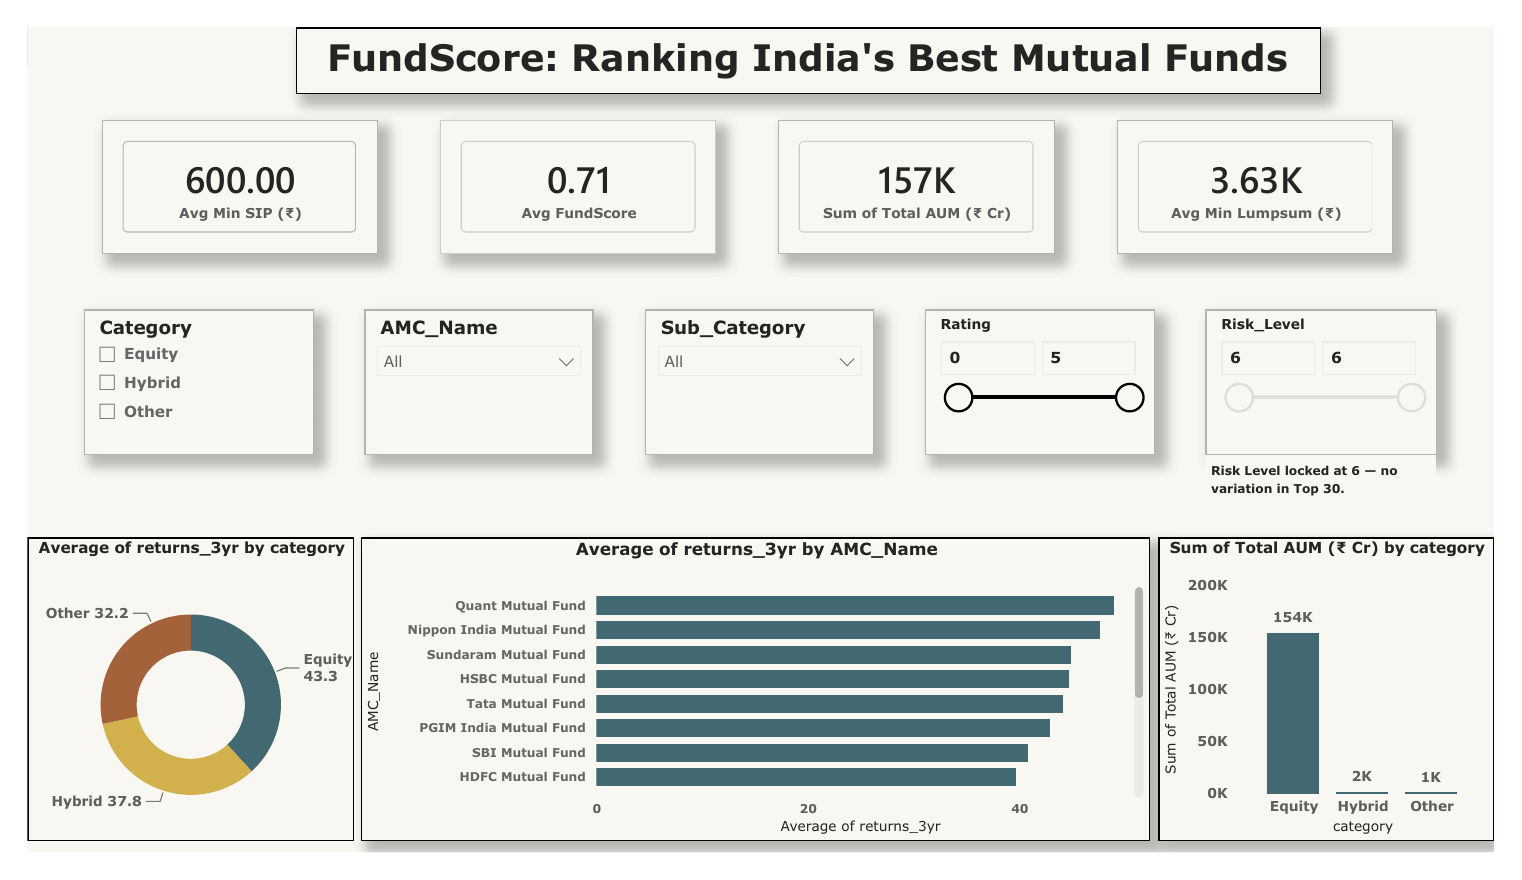

Layout of this report page (visuals, bound fields, positions):
{"tool":"powerbi","page":{"name":"Overview","canvas":[1280,720],"ordinal":0},"visuals":[{"type":"slicer","fields":{"Values":["Top 30 Mutual Funds.category"]},"box":[49.4,245.6,200.3,127.6],"z":0},{"type":"slicer","fields":{"Values":["Top 30 Mutual Funds.amc_name"]},"box":[294,245.6,200.3,127.6],"z":1000},{"type":"slicer","fields":{"Values":["Top 30 Mutual Funds.risk_level"]},"box":[1027.8,245.6,201.7,127.6],"z":2000},{"type":"slicer","fields":{"Values":["Top 30 Mutual Funds.rating"]},"box":[783.2,245.6,200.3,127.6],"z":3000},{"type":"slicer","fields":{"Values":["Top 30 Mutual Funds.sub_category"]},"box":[538.6,245.6,200.3,127.6],"z":4000},{"type":"textbox","box":[1027.5,373.2,201.5,48.5],"z":5000},{"type":"cardVisual","fields":{"Data":["Avg(Top 30 Mutual Funds.min_sip)"]},"box":[65,81,240.5,116.6],"z":6000},{"type":"cardVisual","fields":{"Data":["Avg(Top 30 Mutual Funds.min_lumpsum)"]},"box":[950.9,81,241.5,116.6],"z":7000},{"type":"cardVisual","fields":{"Data":["Sum(Top 30 Mutual Funds.fund_size_cr)"]},"box":[655.5,81,241.5,116.6],"z":8000},{"type":"cardVisual","fields":{"Data":["Avg(Top 30 Mutual Funds.FundScore)"]},"box":[360,81,241.5,116.6],"z":9000},{"type":"donutChart","fields":{"Category":["Top 30 Mutual Funds.category"],"Y":["Avg(Top 30 Mutual Funds.returns_3yr)"]},"box":[0,445.4,284.7,265],"z":10000},{"type":"textbox","box":[234.4,0,894.5,57.7],"z":11000},{"type":"clusteredBarChart","fields":{"Category":["Top 30 Mutual Funds.amc_name"],"Y":["Avg(Top 30 Mutual Funds.returns_3yr)"]},"box":[291.4,445.4,688.3,265],"z":12000},{"type":"clusteredColumnChart","fields":{"Category":["Top 30 Mutual Funds.category"],"Y":["Sum(Top 30 Mutual Funds.Total AUM (₹ Cr))"]},"box":[986.5,445.4,293.3,265],"z":13000}]}

Visuals, with their boxes in screenshot pixels (x1, y1, x2, y2), scaled from the page's 1280x720 canvas onto the 1522x880 screenshot:
slicer - Top 30 Mutual Funds.category: box=[59, 300, 297, 456]
slicer - Top 30 Mutual Funds.amc_name: box=[350, 300, 588, 456]
slicer - Top 30 Mutual Funds.risk_level: box=[1222, 300, 1462, 456]
slicer - Top 30 Mutual Funds.rating: box=[931, 300, 1169, 456]
slicer - Top 30 Mutual Funds.sub_category: box=[640, 300, 879, 456]
textbox: box=[1222, 456, 1461, 515]
cardVisual - Avg(Top 30 Mutual Funds.min_sip): box=[77, 99, 363, 242]
cardVisual - Avg(Top 30 Mutual Funds.min_lumpsum): box=[1131, 99, 1418, 242]
cardVisual - Sum(Top 30 Mutual Funds.fund_size_cr): box=[779, 99, 1067, 242]
cardVisual - Avg(Top 30 Mutual Funds.FundScore): box=[428, 99, 715, 242]
donutChart - Top 30 Mutual Funds.category x Avg(Top 30 Mutual Funds.returns_3yr): box=[0, 544, 339, 868]
textbox: box=[279, 0, 1342, 71]
clusteredBarChart - Top 30 Mutual Funds.amc_name x Avg(Top 30 Mutual Funds.returns_3yr): box=[346, 544, 1165, 868]
clusteredColumnChart - Top 30 Mutual Funds.category x Sum(Top 30 Mutual Funds.Total AUM (₹ Cr)): box=[1173, 544, 1521, 868]
